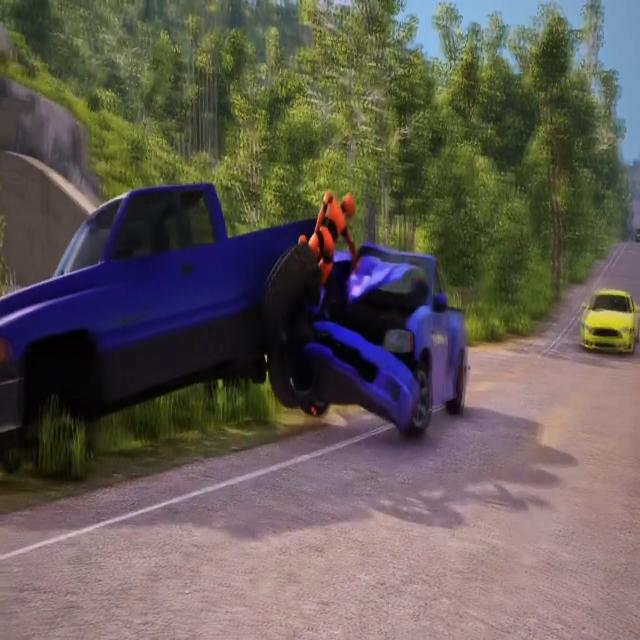accident: (29, 176, 477, 452)
